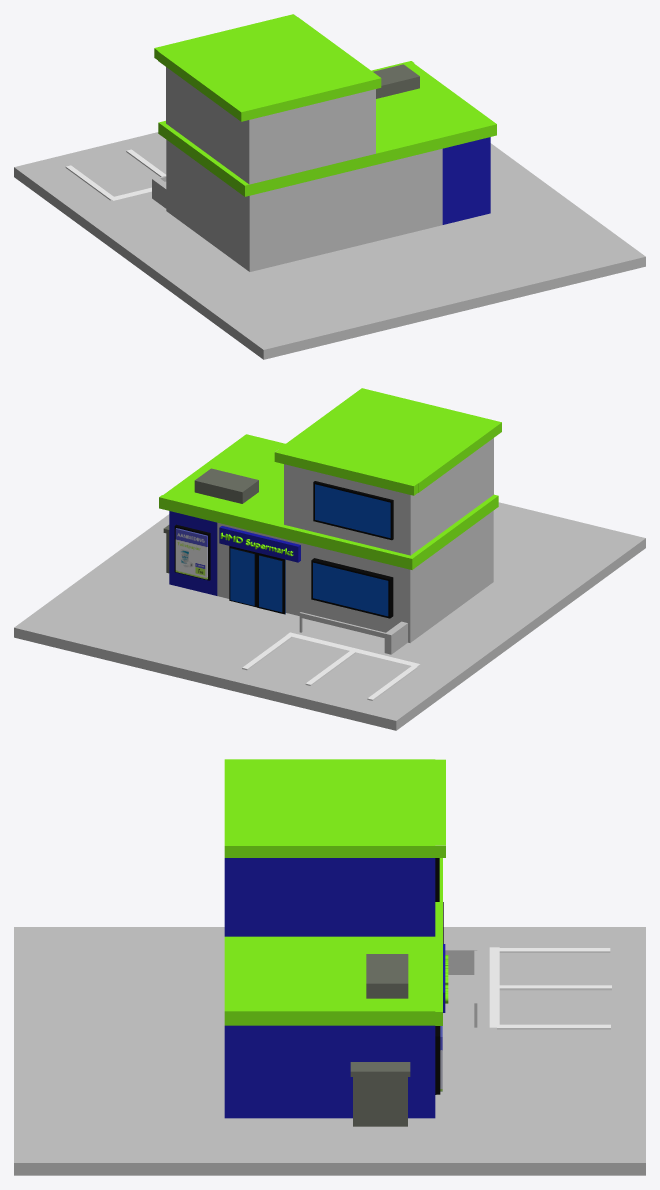
The model's file is supermarkt.obj.
3 renders of one model, top to bottom at view 1: azimuth 30°, elevation 25°; view 2: azimuth 150°, elevation 25°; view 3: azimuth 270°, elevation 25°, orthographic. The views are drawn at different scales.
Visible parts, largest first — view 1: Cube_Cube.001; view 2: Cube_Cube.001, Plane; view 3: Cube_Cube.001.
Part boxes in pixels (x1,y1,x2,y2): Cube_Cube.001: [14, 14, 645, 359]; Cube_Cube.001: [14, 388, 645, 730]; Plane: [175, 528, 207, 579]; Cube_Cube.001: [14, 759, 645, 1175].
Size of the model in its own units: 38.79 by 16.66 by 43.89.
